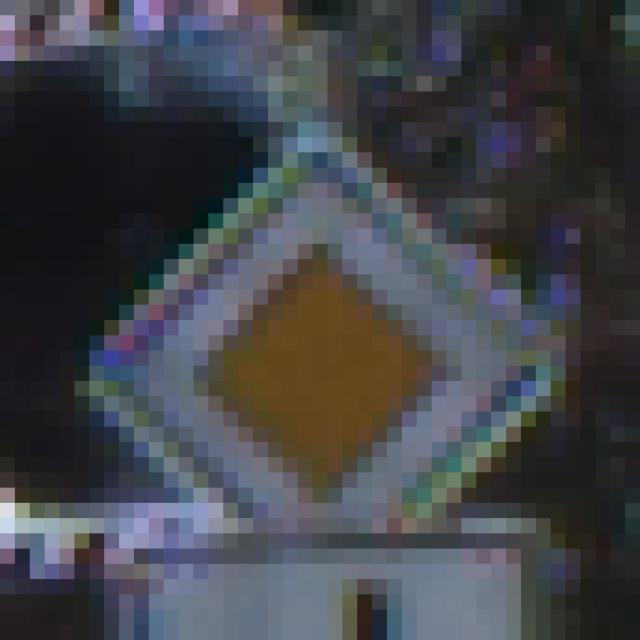Main Road: (76, 93, 567, 550)
